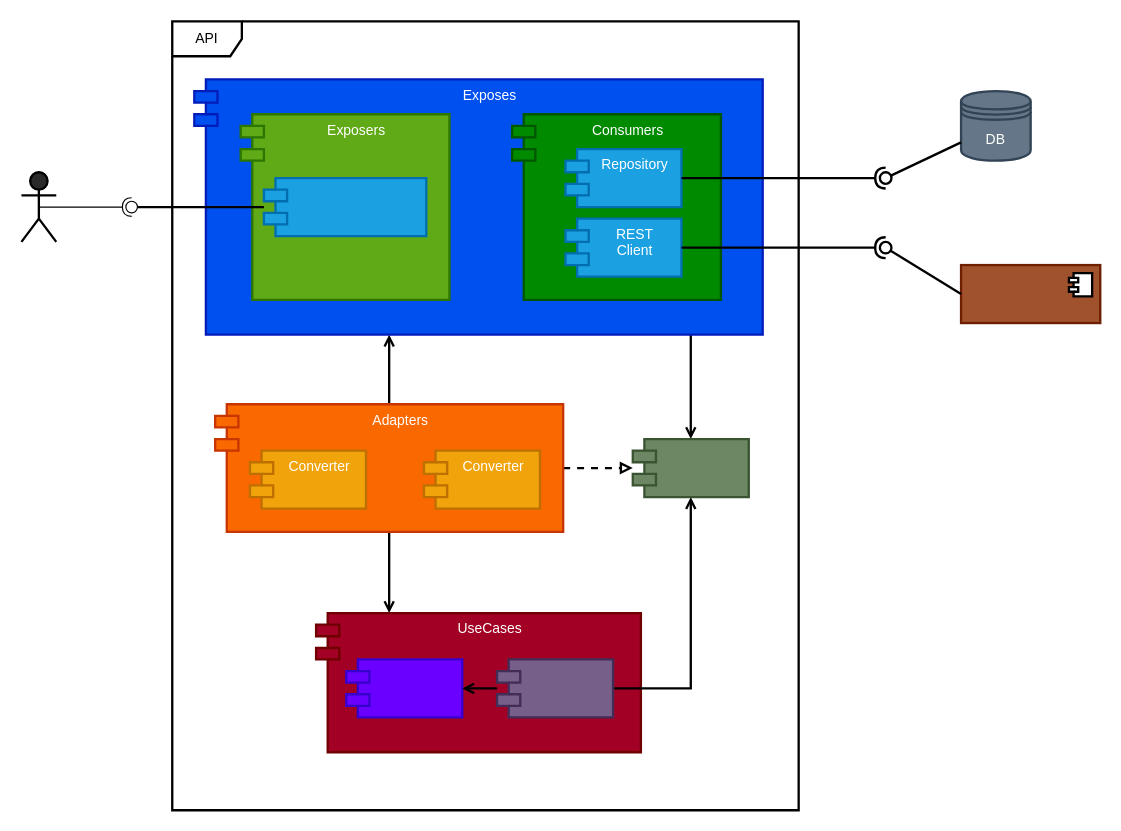
The diagram is 1121 pixels wide and 831 high, and some of its shapes have lost their labels. Here are the shapes that lost their labels. From the top down, the centre of each, then its label:
point 38,206: Client
point 344,206: REST Controller
point 1030,293: REST API
point 690,467: Ports
point 404,688: Domain
point 554,688: Services
